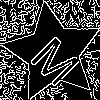M: (27, 27, 90, 89)
